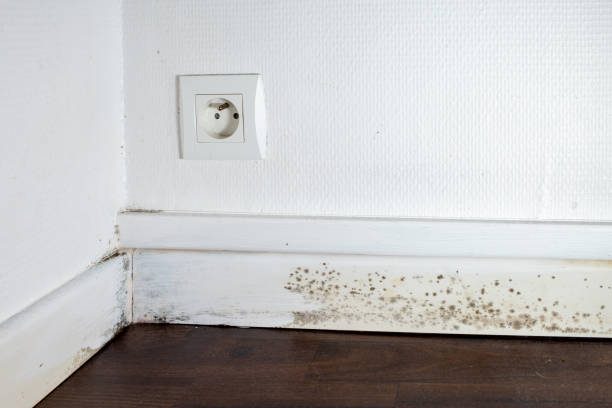schimmel: (442, 312, 532, 330), (305, 270, 355, 302), (301, 311, 365, 325), (430, 279, 462, 305), (479, 283, 525, 293)
